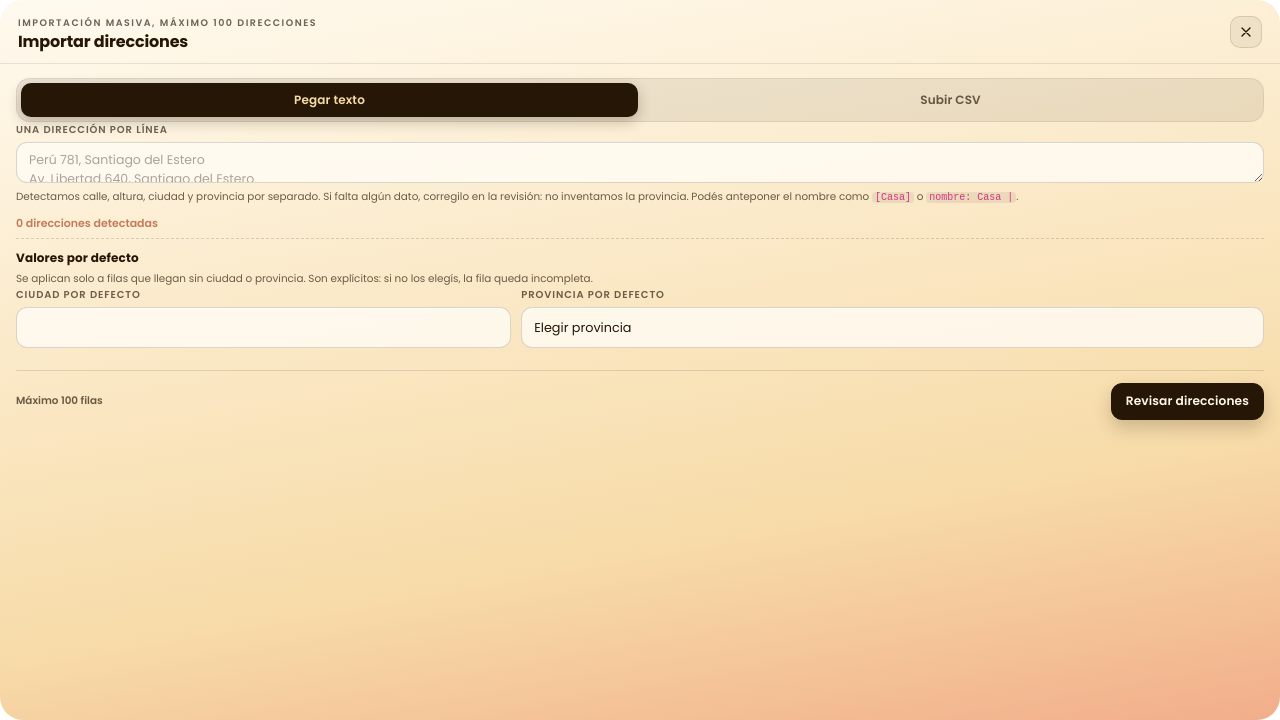
Test: Importador — entrada de texto › bloquea el inicio si quedan filas inválidas
Replace the text in the text box labelled "Una dirección por línea" with "Perú 781". click: (640,163)
box: [16, 142, 1264, 183]
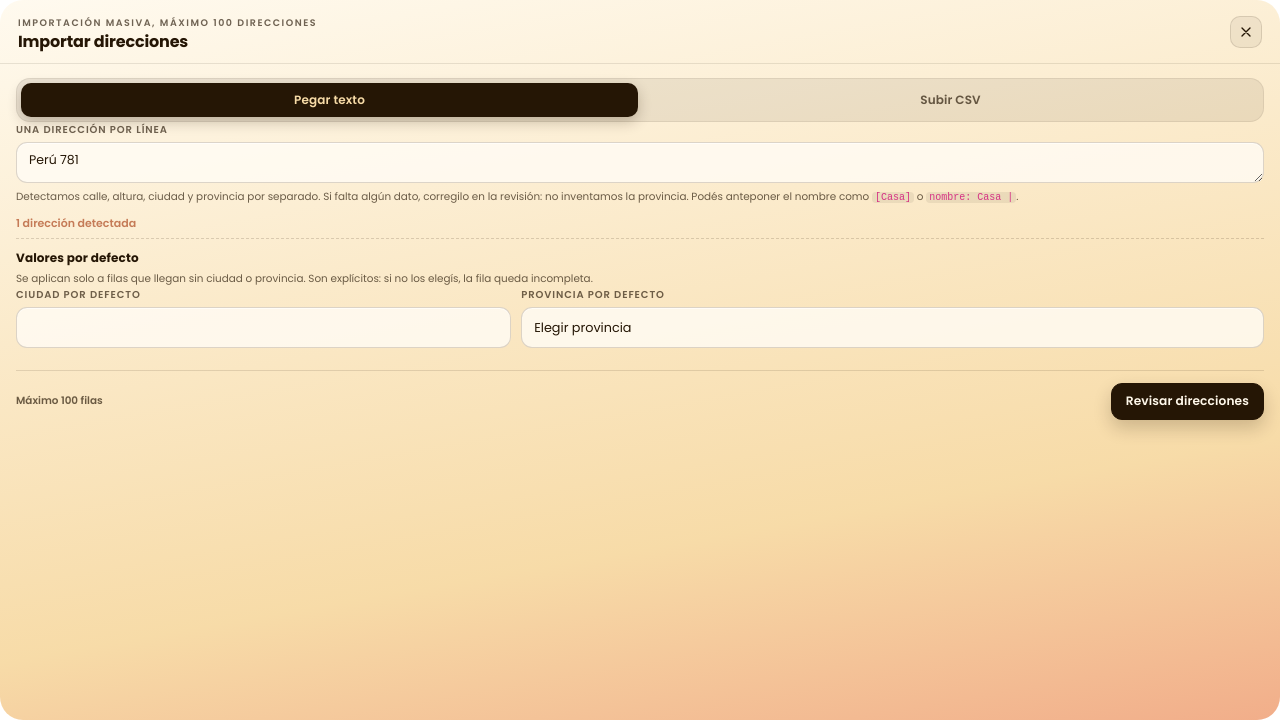
Click the button "Revisar direcciones". click: (1187,401)
box: [1111, 383, 1264, 420]
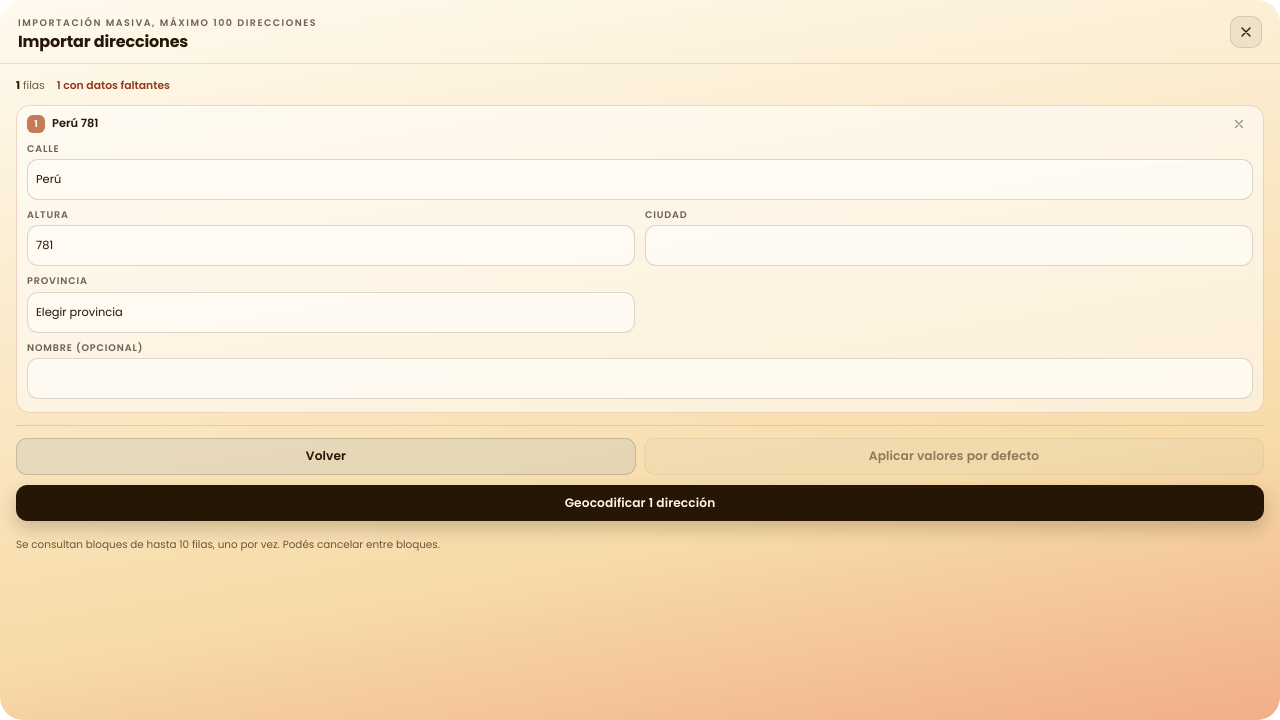
expect the button "Geocodificar 1 dirección" is shown: met
Click the button "Geocodificar 1 dirección". click: (640,503)
box: [16, 485, 1264, 521]
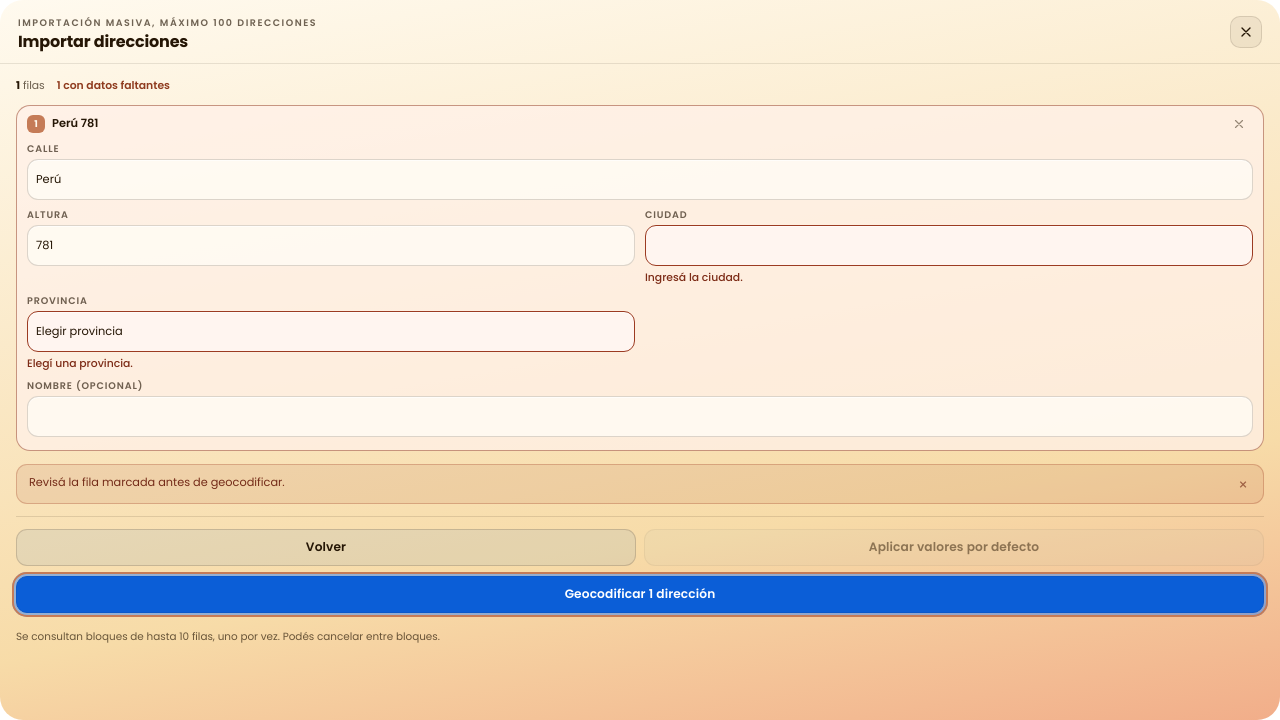
expect the text "Revisá la fila marcada antes de geocodificar." is shown: met, box [29, 474, 285, 490]
